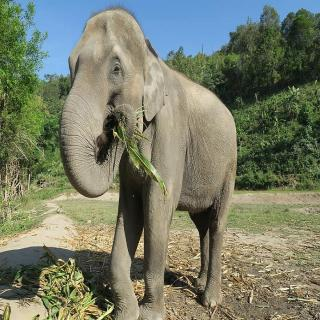Elephant: (58, 4, 244, 320)
